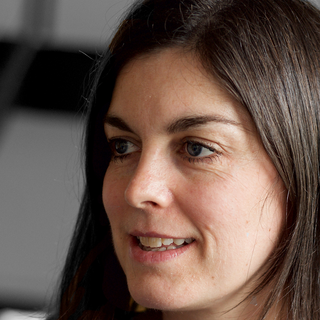eye: (175, 136, 223, 165), (106, 132, 142, 159)
